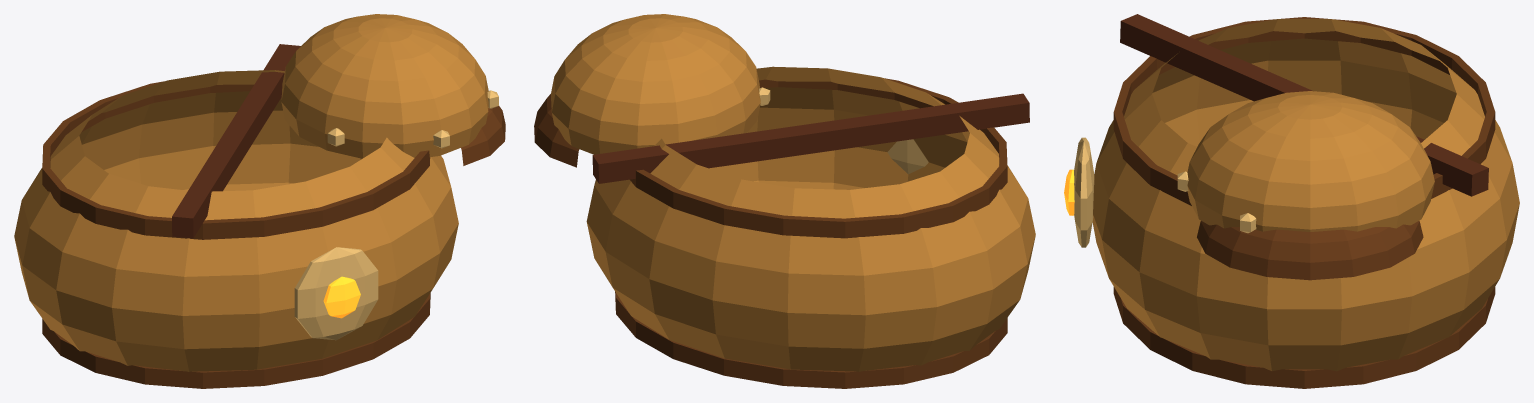
Rendered from salamander_cuirass.glb.
The picture shows the model from 3 angles, left to right: view 1: azimuth 30°, elevation 25°; view 2: azimuth 150°, elevation 25°; view 3: azimuth 270°, elevation 25°; orthographic projection. The views are drawn at different scales.
Parts seen in each view (by area): view 1: salamander_cuirass; view 2: salamander_cuirass; view 3: salamander_cuirass.
Part boxes in pixels (x1,y1,x2,y2): salamander_cuirass: [14, 14, 505, 388]; salamander_cuirass: [534, 14, 1035, 388]; salamander_cuirass: [1064, 14, 1519, 388].
Size of the model in its own units: 1.02 by 0.5275 by 0.8042.
